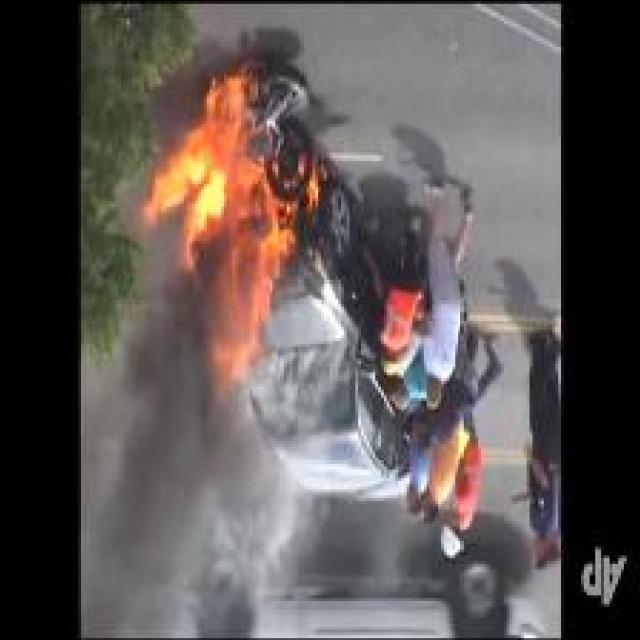Fire: (140, 68, 294, 402)
